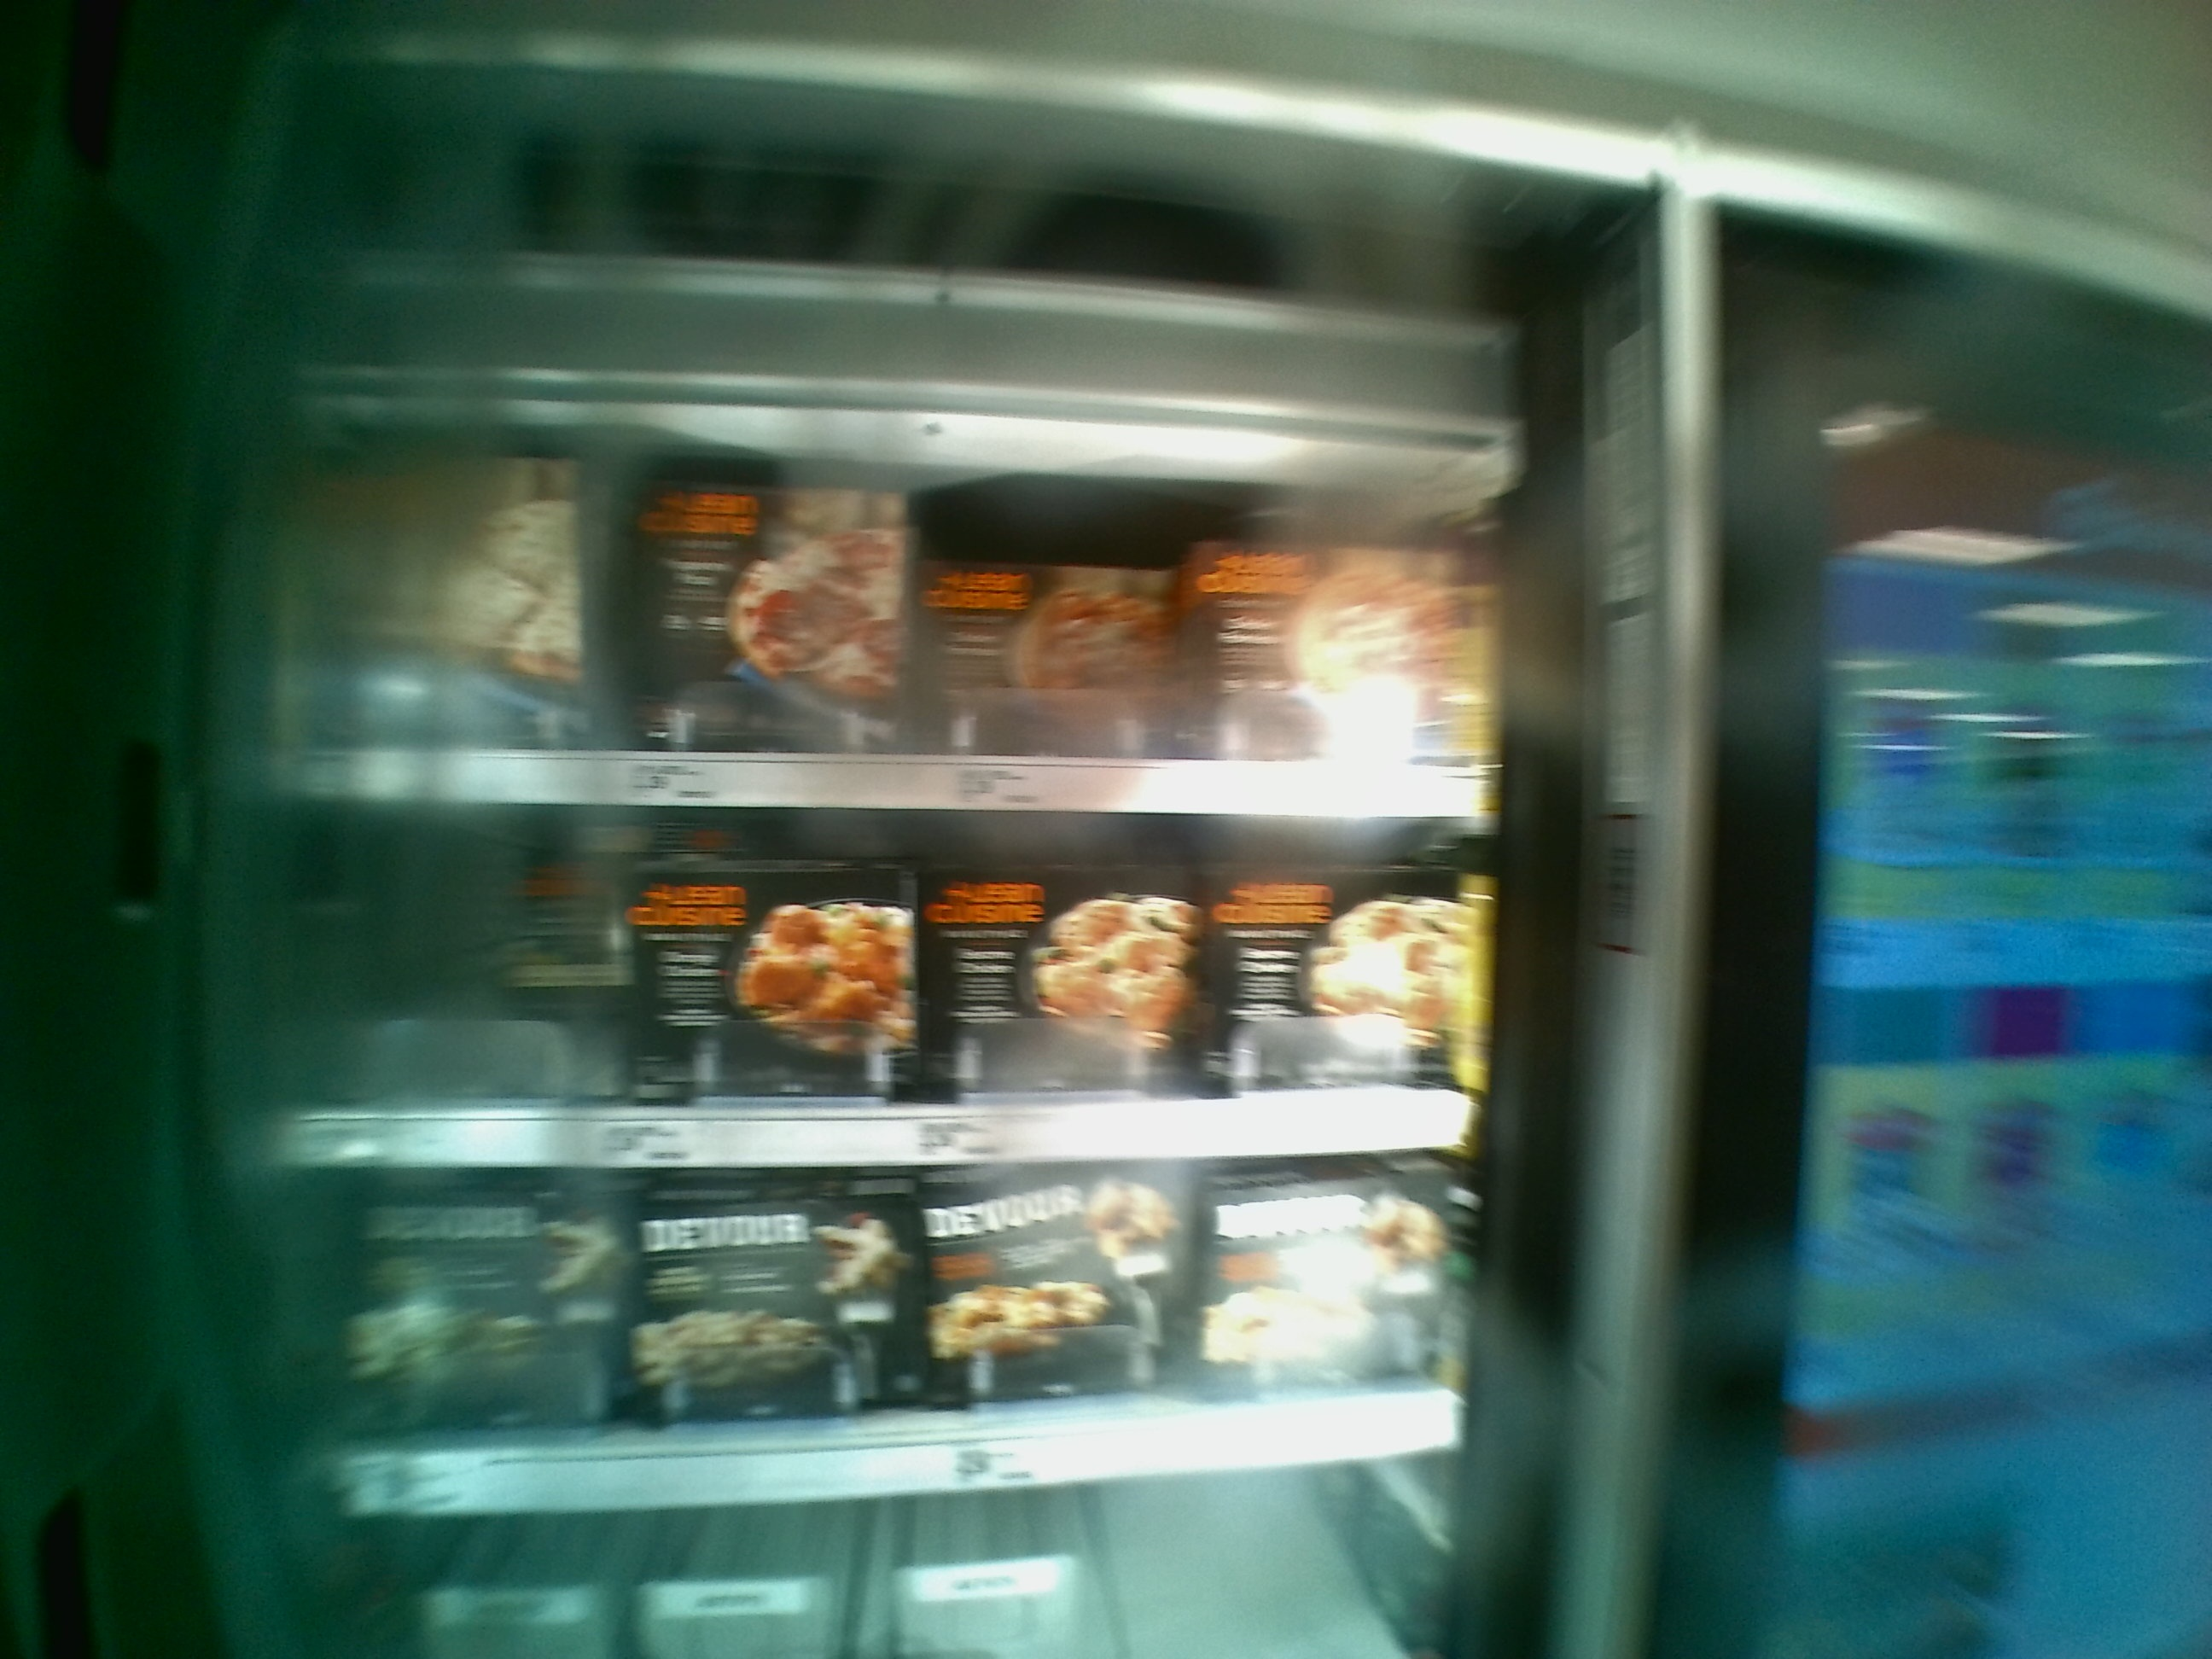shelf: (275, 410, 1498, 819), (284, 1148, 1470, 1514), (263, 803, 1475, 1161)
